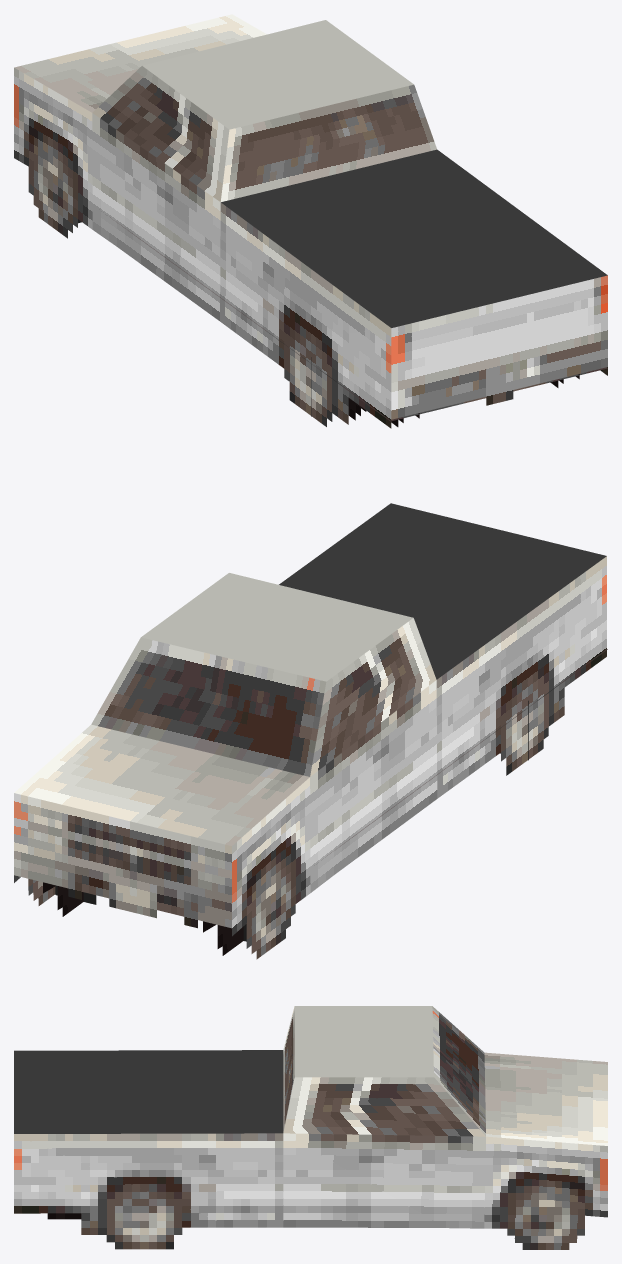
File: car-pickup-plt2.glb
3 views of the same model, one above another, from view 1: azimuth 30°, elevation 25°; view 2: azimuth 150°, elevation 25°; view 3: azimuth 270°, elevation 25° (orthographic). The views are drawn at different scales.
Visible parts, largest first — view 1: car-pickup-plt2; view 2: car-pickup-plt2; view 3: car-pickup-plt2.
Boxes of the visible parts, <box> form: car-pickup-plt2: <box>14,14,607,428</box>; car-pickup-plt2: <box>14,503,607,959</box>; car-pickup-plt2: <box>14,1006,607,1249</box>.
Size of the model in its own units: 1.94 by 1.79 by 5.79.
15 materials, 15 textured.
